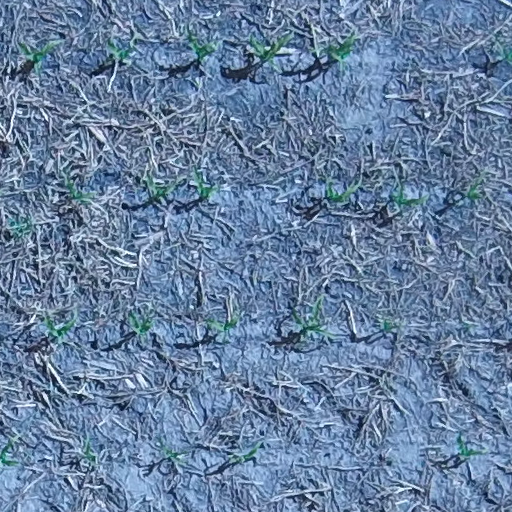planta: (290, 294, 336, 341), (309, 31, 359, 72), (245, 32, 294, 71), (181, 26, 222, 65), (17, 39, 57, 77), (40, 312, 79, 347), (203, 312, 243, 346), (190, 165, 223, 202), (141, 172, 181, 202), (322, 177, 363, 206), (388, 182, 430, 210), (453, 431, 488, 462), (63, 176, 96, 206), (126, 309, 157, 340), (157, 437, 188, 467), (226, 440, 263, 465), (104, 36, 138, 63), (461, 177, 484, 203), (81, 434, 99, 467)
